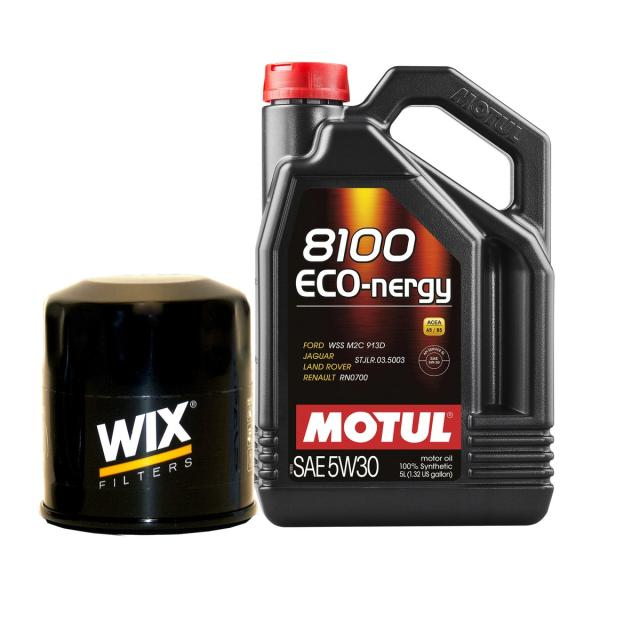motor_oil: (257, 56, 554, 533)
oil_filter: (35, 272, 249, 536)
